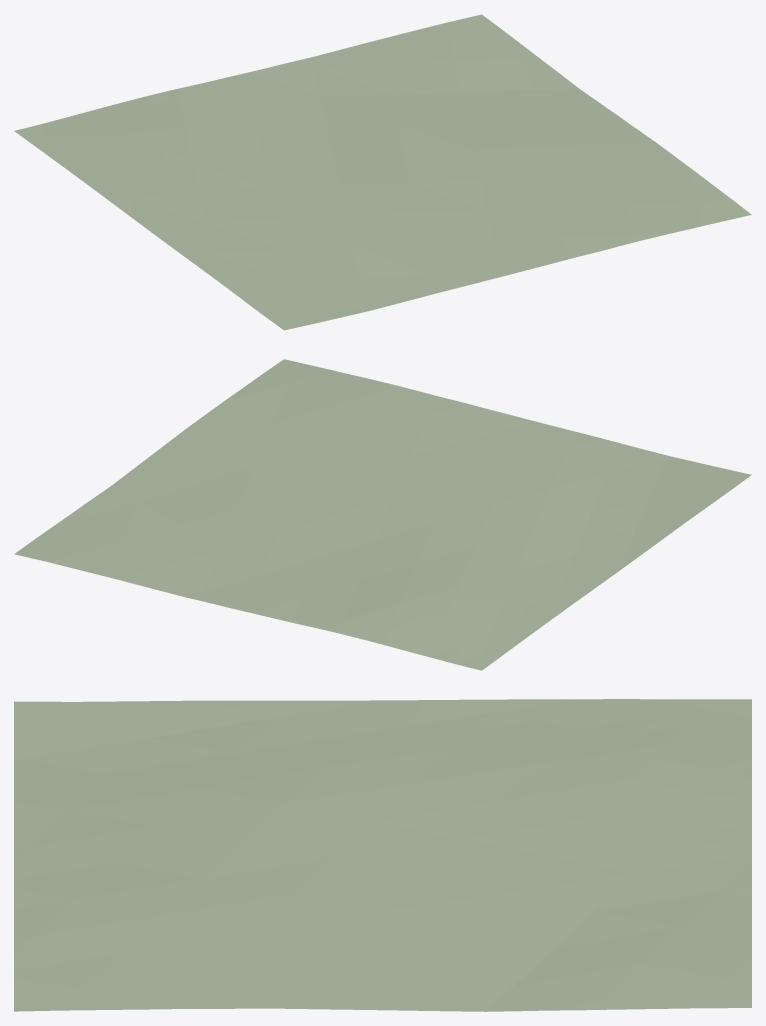
File: SM_MPRR_Terrain_-4_0.fbx
3 views of the same model, one above another, from view 1: azimuth 30°, elevation 25°; view 2: azimuth 150°, elevation 25°; view 3: azimuth 270°, elevation 25° (orthographic). The views are drawn at different scales.
Parts seen in each view (by area): view 1: SM_MPRR_Terrain_-4_0; view 2: SM_MPRR_Terrain_-4_0; view 3: SM_MPRR_Terrain_-4_0.
Part boxes in pixels (left/top/right/bottom): SM_MPRR_Terrain_-4_0: left=14, top=14, right=751, bottom=330; SM_MPRR_Terrain_-4_0: left=14, top=359, right=751, bottom=670; SM_MPRR_Terrain_-4_0: left=14, top=699, right=751, bottom=1011.
Bounding box in the file's own units: 15000 × 15000 × 194.
